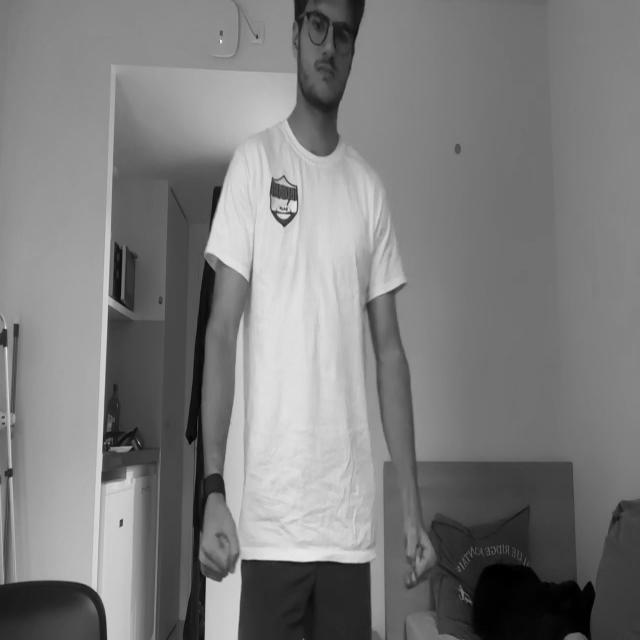elbow: (199, 315, 240, 364), (376, 336, 409, 386)
hand: (194, 498, 238, 584), (399, 525, 437, 589)
shoulder: (356, 169, 397, 264), (220, 135, 259, 229)
